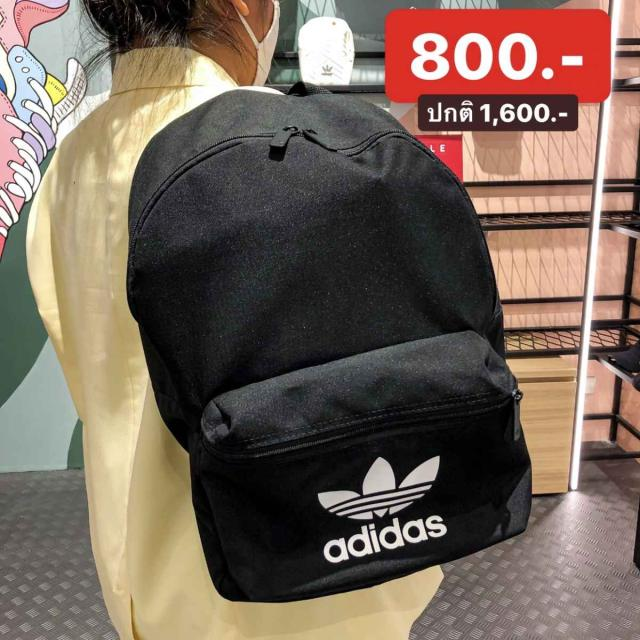Handbag: (123, 85, 536, 602)
